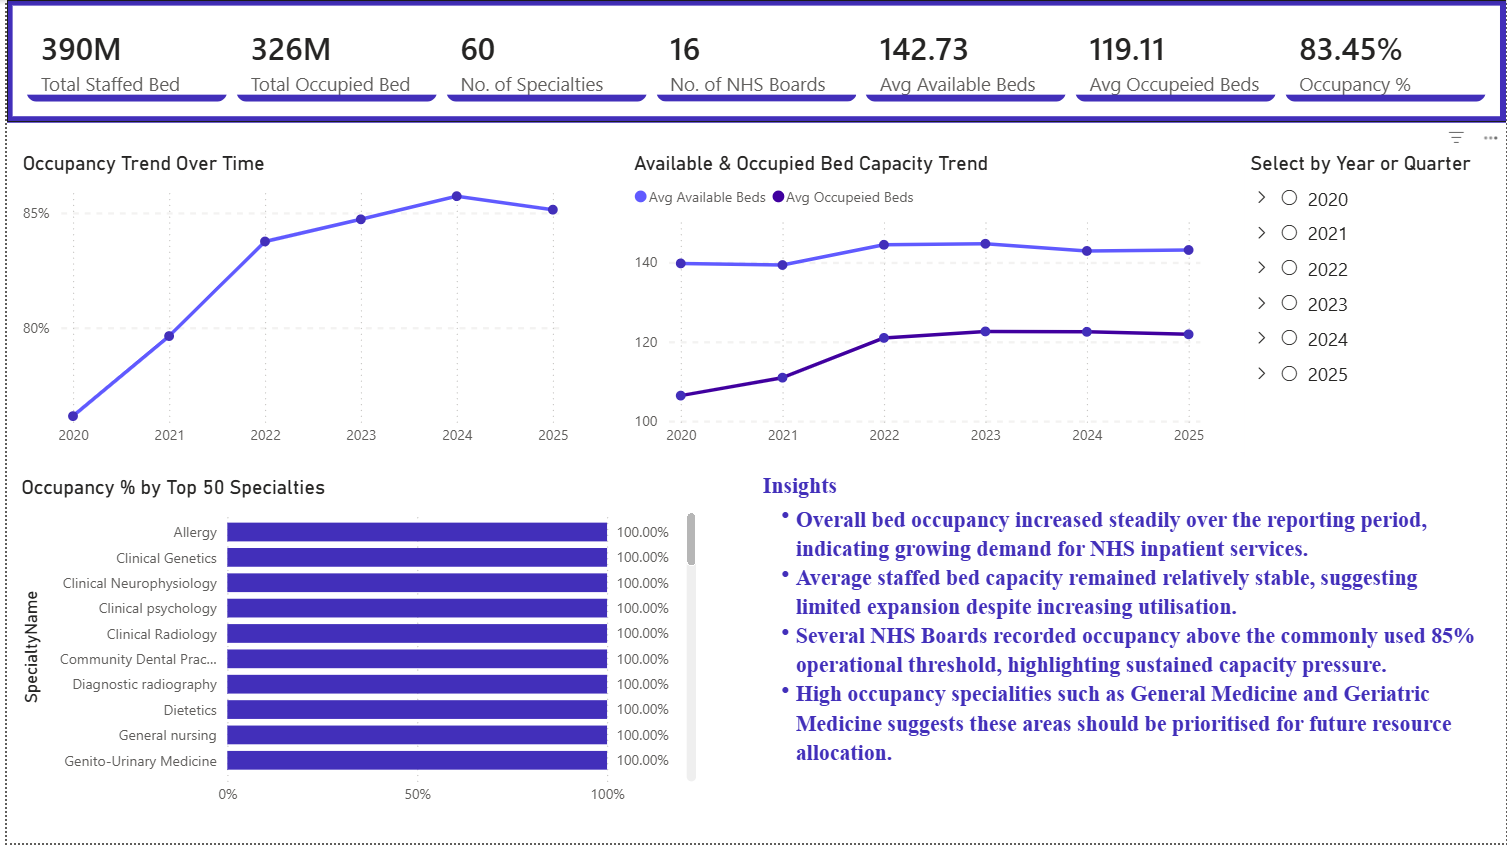

The page's visual inventory and layout, read from the dashboard file:
{"tool":"powerbi","page":{"name":"Executive Overview","canvas":[1280,720],"ordinal":0},"visuals":[{"type":"cardVisual","fields":{"Data":["analytics beds_clean.Total Staffed Bed Days","analytics beds_clean.Total Occupied Bed Days","analytics beds_clean.Number of Specialties","analytics beds_clean.Number of NHS Boards","analytics beds_clean.Average Available Beds","analytics beds_clean.Average Occupeied Beds","analytics beds_clean.Occupancy %"]},"box":[0,0,1280.2,104.7],"z":0},{"type":"listSlicer","fields":{"Values":["analytics beds_clean.Quarter_Start_Date.Variation.Date Hierarchy.Year","analytics beds_clean.Quarter_Start_Date.Variation.Date Hierarchy.Quarter","analytics beds_clean.Quarter_Start_Date.Variation.Date Hierarchy.Month","analytics beds_clean.Quarter_Start_Date.Variation.Date Hierarchy.Day"]},"box":[791.9,159.3,211.6,215.1],"z":1000},{"type":"lineChart","title":"Occupancy Trend Over Time","fields":{"Category":["analytics beds_clean.Quarter_Start_Date.Variation.Date Hierarchy.Year","analytics beds_clean.Quarter_Start_Date.Variation.Date Hierarchy.Quarter","analytics beds_clean.Quarter_Start_Date.Variation.Date Hierarchy.Month","analytics beds_clean.Quarter_Start_Date.Variation.Date Hierarchy.Day"],"Y":["analytics beds_clean.Occupancy %"]},"box":[8.1,129.1,475.6,260.5],"z":2000},{"type":"lineChart","title":" Available & Occupied Bed Capacity Trend","fields":{"Category":["analytics beds_clean.Quarter_Start_Date.Variation.Date Hierarchy.Year","analytics beds_clean.Quarter_Start_Date.Variation.Date Hierarchy.Quarter","analytics beds_clean.Quarter_Start_Date.Variation.Date Hierarchy.Month","analytics beds_clean.Quarter_Start_Date.Variation.Date Hierarchy.Day"],"Y":["analytics beds_clean.Avg Available Beds","analytics beds_clean.Avg Occupeied Beds"]},"box":[530.2,129.1,496.5,260.5],"z":3000},{"type":"clusteredBarChart","title":"Occupancy % by Top 50 Specialties","fields":{"Category":["analytics beds_clean.SpecialtyName"],"Y":["analytics beds_clean.Occupancy %"]},"box":[7.5,405.2,585.9,290.7],"z":4000},{"type":"textbox","title":"Insights","box":[640.7,404.7,629.1,311.6],"z":5000},{"type":"listSlicer","title":"Select by Year or Quarter","fields":{"Values":["analytics beds_clean.Quarter_Start_Date.Variation.Date Hierarchy.Year","analytics beds_clean.Quarter_Start_Date.Variation.Date Hierarchy.Quarter","analytics beds_clean.Quarter_Start_Date.Variation.Date Hierarchy.Month","analytics beds_clean.Quarter_Start_Date.Variation.Date Hierarchy.Day"]},"box":[1055.8,129.1,214,260.5],"z":6000}]}

Visuals, with their boxes in screenshot pixels (x1, y1, x2, y2), scaled from the page's 1280x720 canvas onto the 1507x846 screenshot:
cardVisual - analytics beds_clean.Total Staffed Bed Days x analytics beds_clean.Total Occupied Bed Days: x1=0 y1=0 x2=1506 y2=123
listSlicer - analytics beds_clean.Quarter_Start_Date.Variation.Date Hierarchy.Year x analytics beds_clean.Quarter_Start_Date.Variation.Date Hierarchy.Quarter: x1=932 y1=187 x2=1181 y2=440
"Occupancy Trend Over Time" lineChart: x1=10 y1=152 x2=569 y2=458
" Available & Occupied Bed Capacity Trend" lineChart: x1=624 y1=152 x2=1209 y2=458
"Occupancy % by Top 50 Specialties" clusteredBarChart: x1=9 y1=476 x2=699 y2=818
"Insights" textbox: x1=754 y1=476 x2=1495 y2=842
"Select by Year or Quarter" listSlicer: x1=1243 y1=152 x2=1495 y2=458
